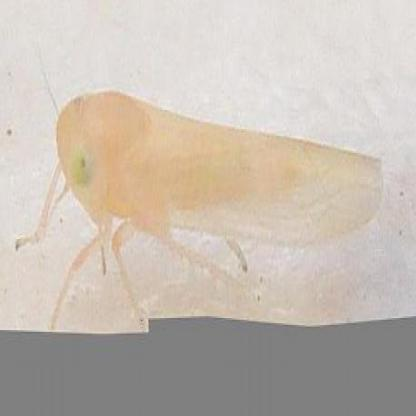green-leafhopper: (52, 91, 386, 260)
